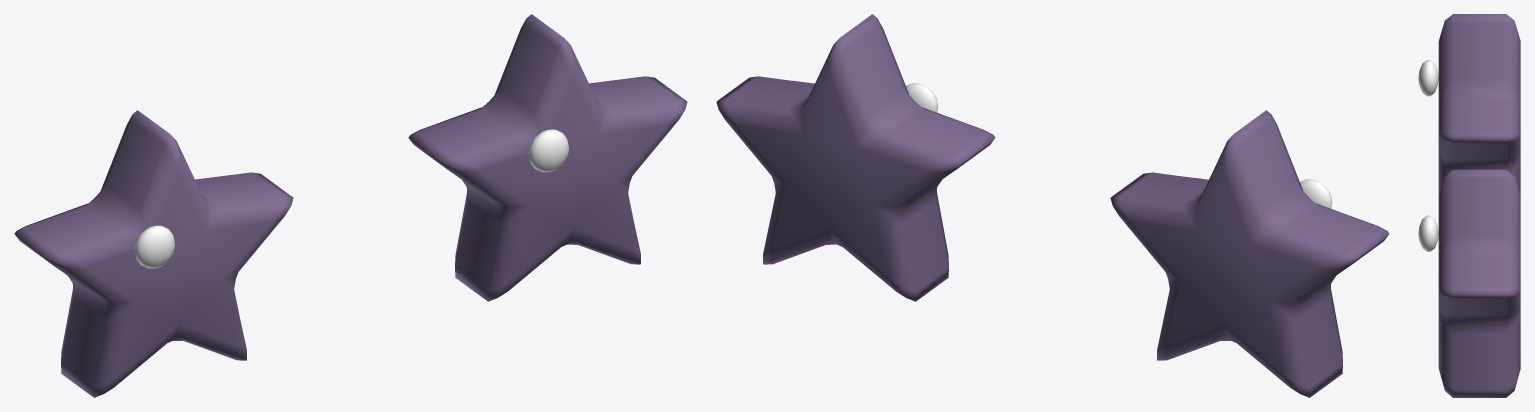
Rendered from eyes-star.glb.
The picture shows the model from 3 angles, left to right: view 1: azimuth 30°, elevation 25°; view 2: azimuth 150°, elevation 25°; view 3: azimuth 270°, elevation 25°; orthographic projection. The views are drawn at different scales.
Parts seen in each view (by area): view 1: CMP_Critter_Eyes_Star_L, CMP_Critter_Eyes_Star_R, CMP_Critter_Eyes_Star_Shine_L, CMP_Critter_Eyes_Star_Shine_R; view 2: CMP_Critter_Eyes_Star_L, CMP_Critter_Eyes_Star_R, CMP_Critter_Eyes_Star_Shine_L, CMP_Critter_Eyes_Star_Shine_R; view 3: CMP_Critter_Eyes_Star_R, CMP_Critter_Eyes_Star_L, CMP_Critter_Eyes_Star_Shine_L, CMP_Critter_Eyes_Star_Shine_R.
Part boxes in pixels (x1,y1,x2,y2): CMP_Critter_Eyes_Star_L: (14, 110, 293, 397); CMP_Critter_Eyes_Star_R: (408, 14, 687, 301); CMP_Critter_Eyes_Star_Shine_L: (134, 225, 174, 268); CMP_Critter_Eyes_Star_Shine_R: (528, 129, 568, 172); CMP_Critter_Eyes_Star_L: (1110, 110, 1389, 397); CMP_Critter_Eyes_Star_R: (716, 14, 995, 301); CMP_Critter_Eyes_Star_Shine_L: (1300, 179, 1332, 208); CMP_Critter_Eyes_Star_Shine_R: (906, 83, 938, 112); CMP_Critter_Eyes_Star_R: (1438, 169, 1520, 397); CMP_Critter_Eyes_Star_L: (1438, 14, 1520, 195); CMP_Critter_Eyes_Star_Shine_L: (1418, 60, 1438, 96); CMP_Critter_Eyes_Star_Shine_R: (1418, 215, 1438, 251).
Size of the model in its own units: 1.46 by 0.5353 by 0.25.
